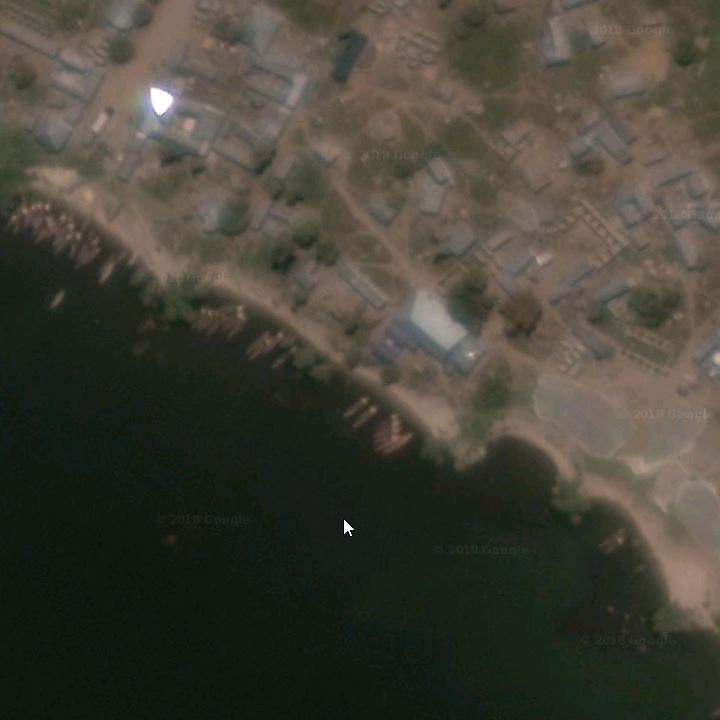boat: (44, 212, 67, 256), (66, 230, 93, 267), (342, 390, 371, 422), (594, 524, 626, 552), (219, 305, 243, 342), (250, 327, 274, 363), (388, 430, 416, 460), (351, 403, 378, 433), (269, 343, 299, 370), (205, 310, 231, 339), (75, 245, 102, 272), (371, 425, 401, 449), (245, 327, 268, 357), (367, 413, 401, 433), (372, 434, 401, 457), (68, 225, 85, 263), (198, 306, 218, 337), (262, 329, 284, 357), (372, 421, 403, 440), (98, 258, 119, 286), (51, 231, 73, 257), (605, 533, 627, 556), (38, 205, 50, 245), (226, 317, 244, 342), (54, 220, 67, 253), (50, 288, 67, 312), (25, 200, 36, 237), (16, 202, 26, 236), (8, 212, 16, 233)
